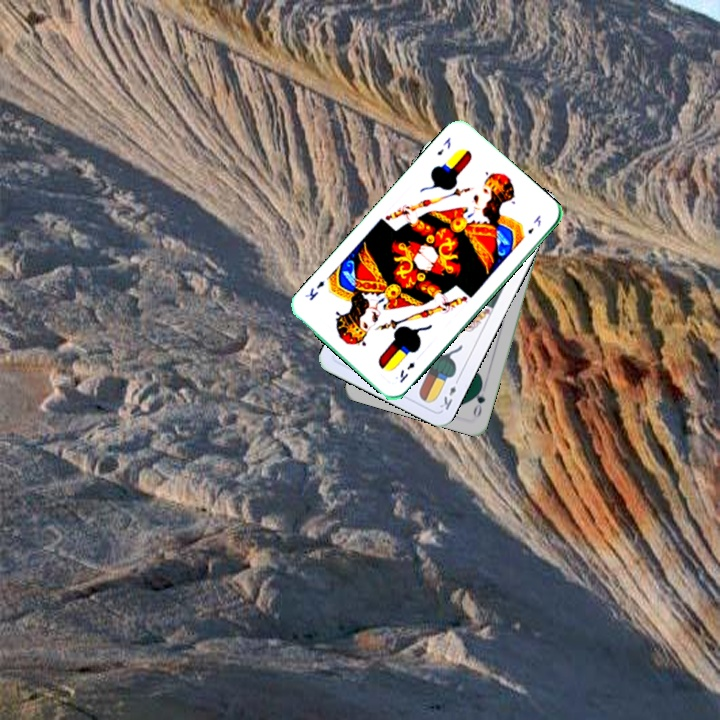EK: (436, 374, 462, 413), (396, 358, 417, 386), (433, 133, 453, 158)
GO: (469, 380, 488, 420)
